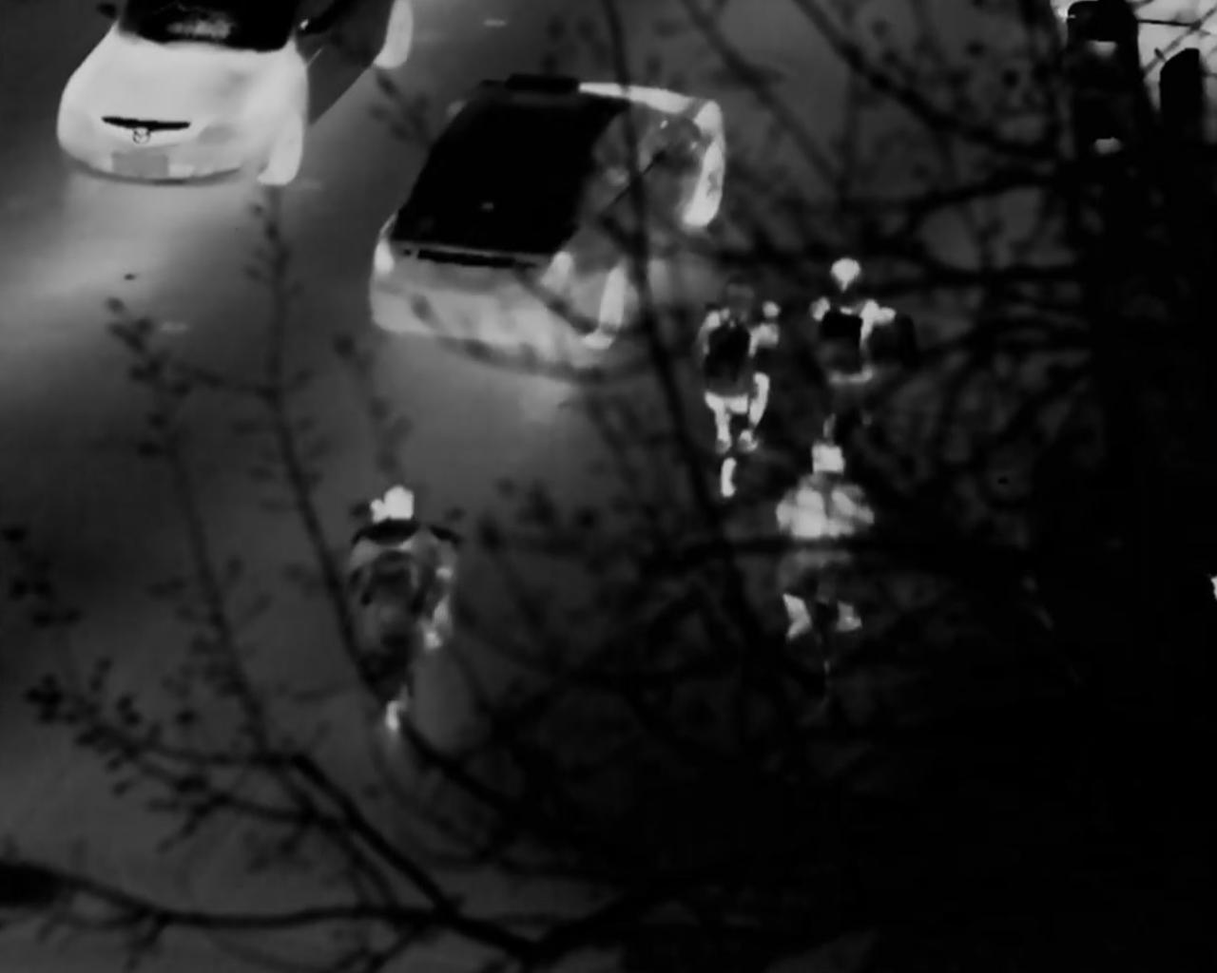person: (786, 435, 873, 651), (688, 284, 776, 495), (360, 488, 441, 669), (810, 240, 881, 424)
